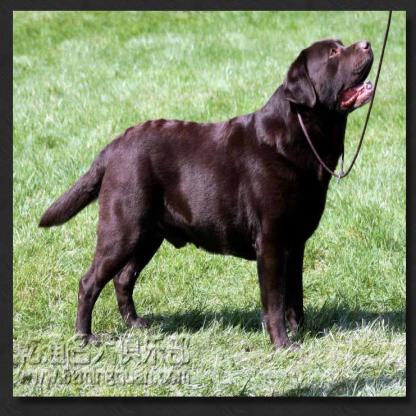Labarador Retriever: (40, 38, 374, 348)
